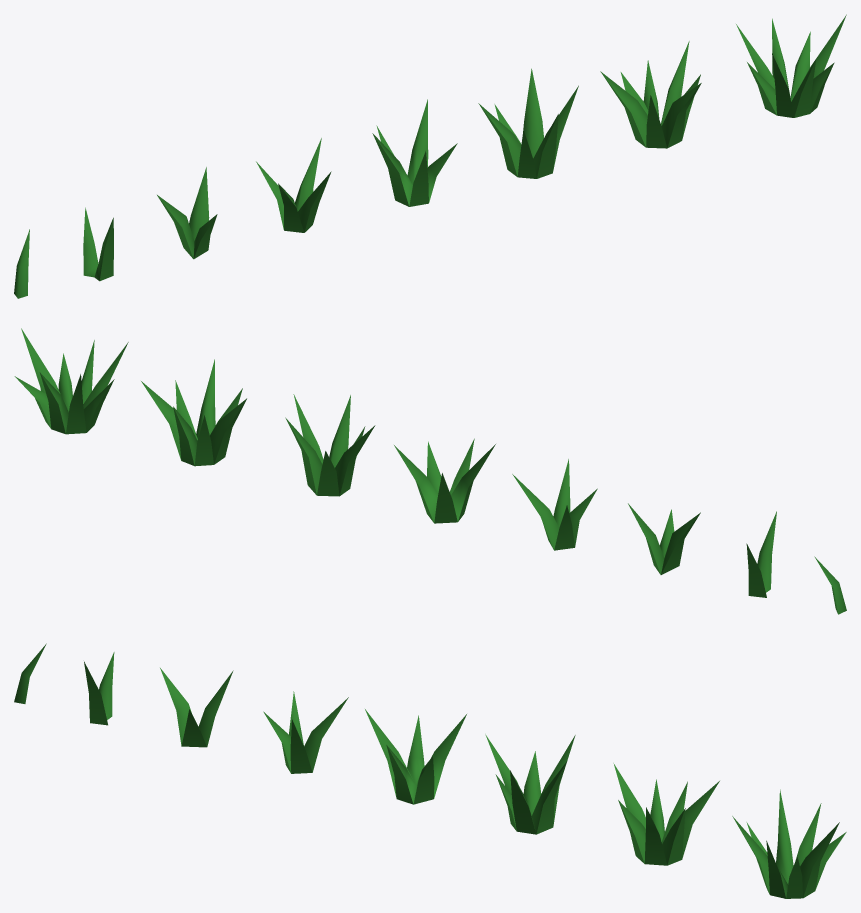
Rendered from grassPack.glb.
3 renders of one model, top to bottom at view 1: azimuth 30°, elevation 25°; view 2: azimuth 150°, elevation 25°; view 3: azimuth 330°, elevation 25°, orthographic.
Visible parts, largest first — view 1: Grass_8, Grass_7, Grass_6, Grass_5, Grass_4, Grass_3, Grass_2, Grass_1; view 2: Grass_8, Grass_7, Grass_6, Grass_5, Grass_4, Grass_3, Grass_2; view 3: Grass_8, Grass_7, Grass_6, Grass_5, Grass_4, Grass_3, Grass_2, Grass_1.
Part boxes in pixels (x1,y1,x2,y2): Grass_8: (736, 14, 846, 117); Grass_7: (600, 41, 701, 148); Grass_6: (478, 68, 578, 178); Grass_5: (372, 99, 457, 206); Grass_4: (256, 138, 331, 232); Grass_3: (157, 167, 217, 259); Grass_2: (83, 207, 113, 281); Grass_1: (14, 229, 29, 298); Grass_8: (14, 328, 128, 434); Grass_7: (141, 359, 246, 466); Grass_6: (285, 394, 375, 496); Grass_5: (394, 438, 495, 523); Grass_4: (512, 459, 597, 550); Grass_3: (628, 503, 700, 574); Grass_2: (746, 511, 776, 597); Grass_8: (732, 789, 846, 898); Grass_7: (613, 763, 719, 865); Grass_6: (485, 734, 575, 834); Grass_5: (365, 709, 466, 804); Grass_4: (263, 691, 348, 773); Grass_3: (160, 668, 233, 747); Grass_2: (84, 652, 114, 725); Grass_1: (14, 643, 46, 703).
Size of the model in its own units: 8.5 by 0.8078 by 0.9405.
